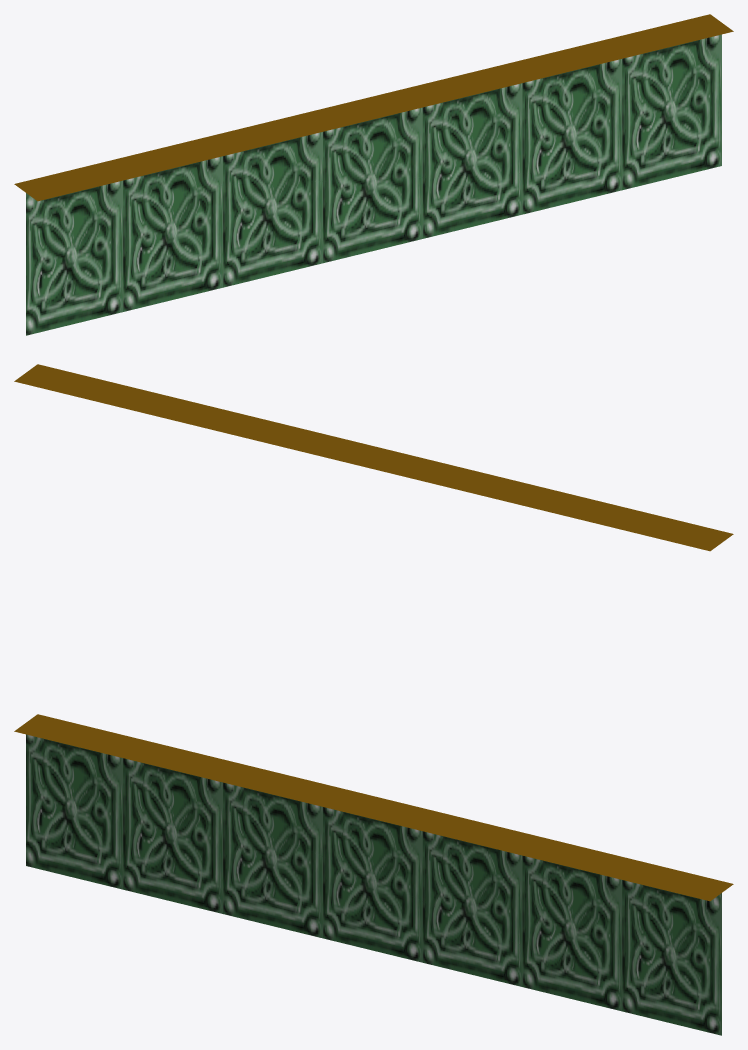
File: Geländer1.5 [Schnörkel]_162.glb
3 renders of one model, top to bottom at view 1: azimuth 30°, elevation 25°; view 2: azimuth 150°, elevation 25°; view 3: azimuth 330°, elevation 25°, orthographic.
Parts seen in each view (by area): view 1: pPlaneShape227, pPlaneShape228; view 2: pPlaneShape228; view 3: pPlaneShape227, pPlaneShape228.
Part boxes in pixels (left/top/right/bottom): pPlaneShape227: left=26, top=34, right=721, bottom=335; pPlaneShape228: left=14, top=14, right=733, bottom=201; pPlaneShape228: left=14, top=364, right=733, bottom=551; pPlaneShape227: left=26, top=734, right=721, bottom=1035; pPlaneShape228: left=14, top=714, right=733, bottom=901.
Bounding box in the file's own units: 0.4125 × 0.081 × 0.0243.
2 materials, 1 textured.
